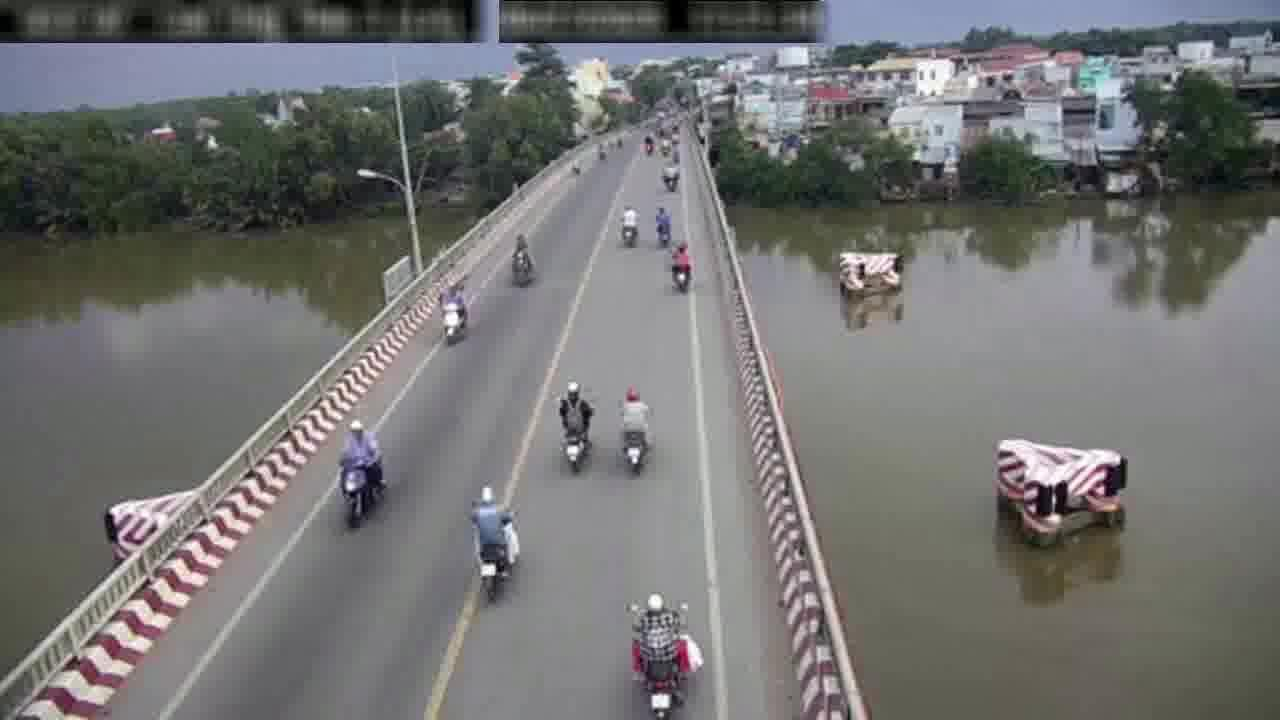motorbike: (628, 592, 695, 715), (470, 480, 521, 614), (328, 411, 390, 521), (556, 374, 592, 478), (617, 383, 650, 478), (435, 272, 472, 350), (507, 228, 535, 285), (670, 234, 695, 296), (617, 199, 641, 250), (652, 202, 675, 251), (656, 155, 680, 193)
